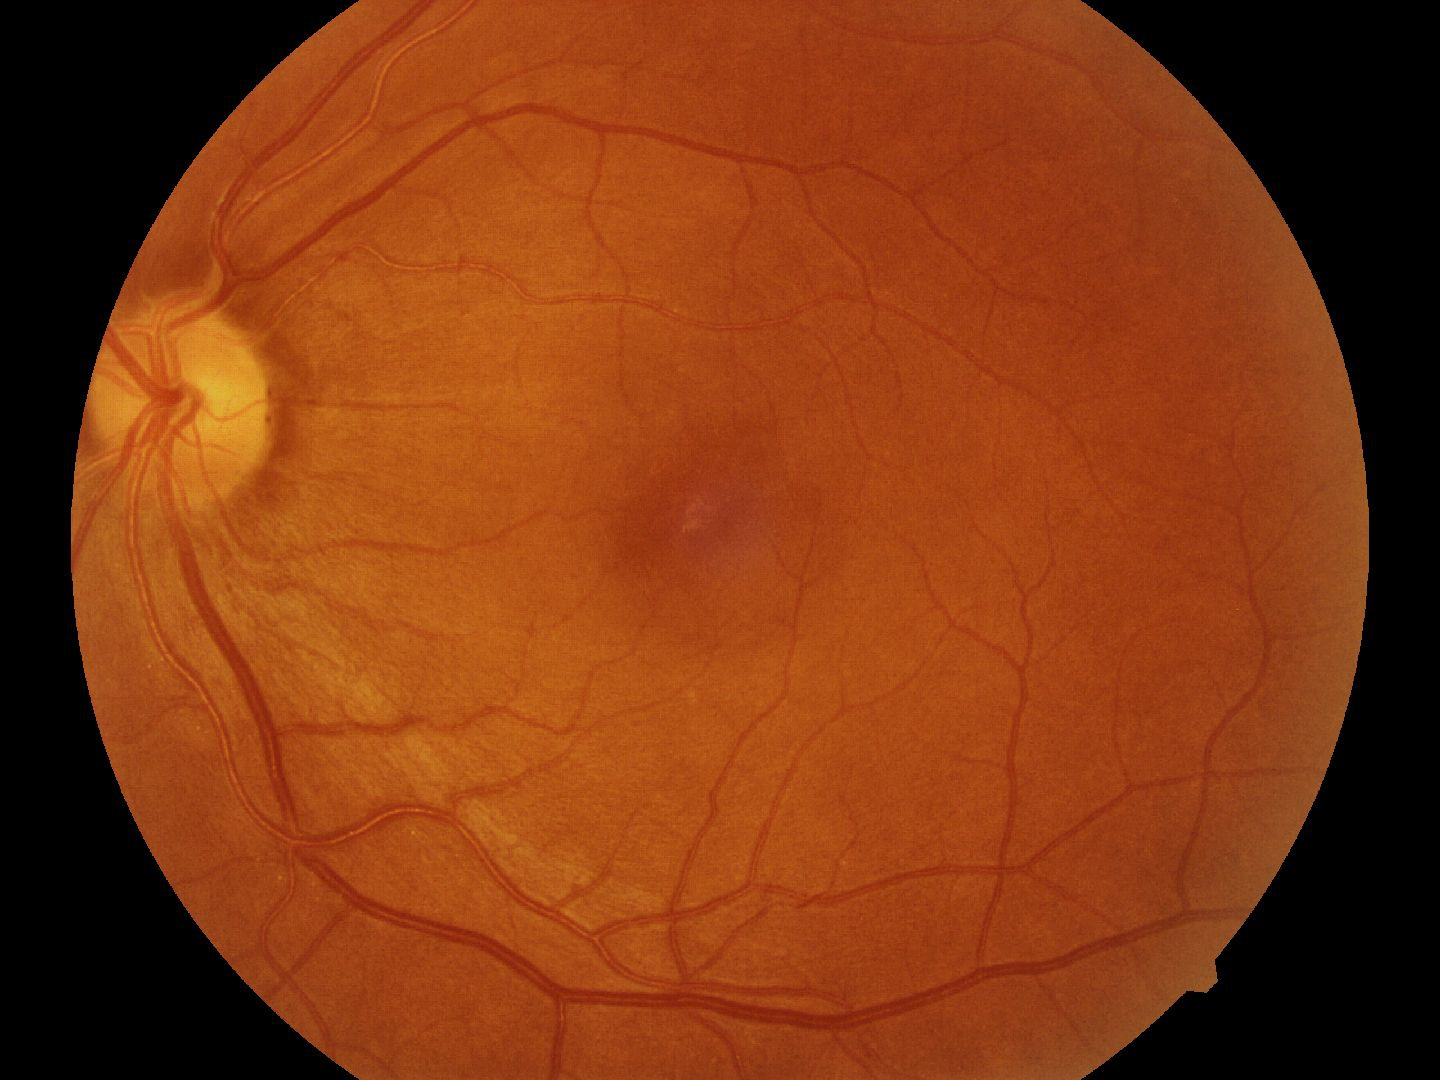Hemorrhages: (587, 400, 839, 589)
Optic-Disc: (101, 299, 278, 497)
Venules: (221, 611, 891, 1026)
